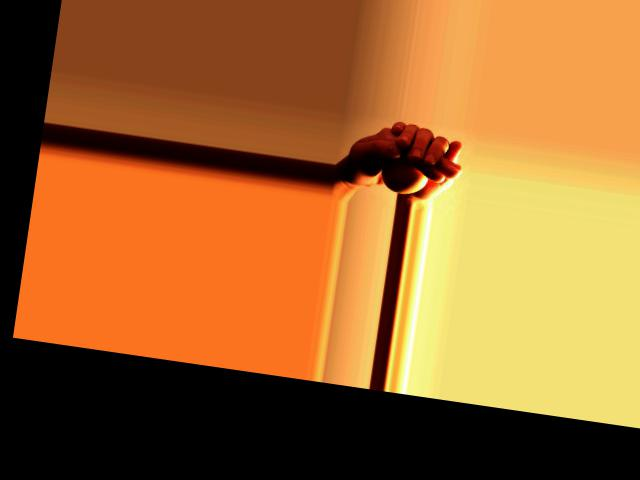egg: (378, 158, 429, 196)
